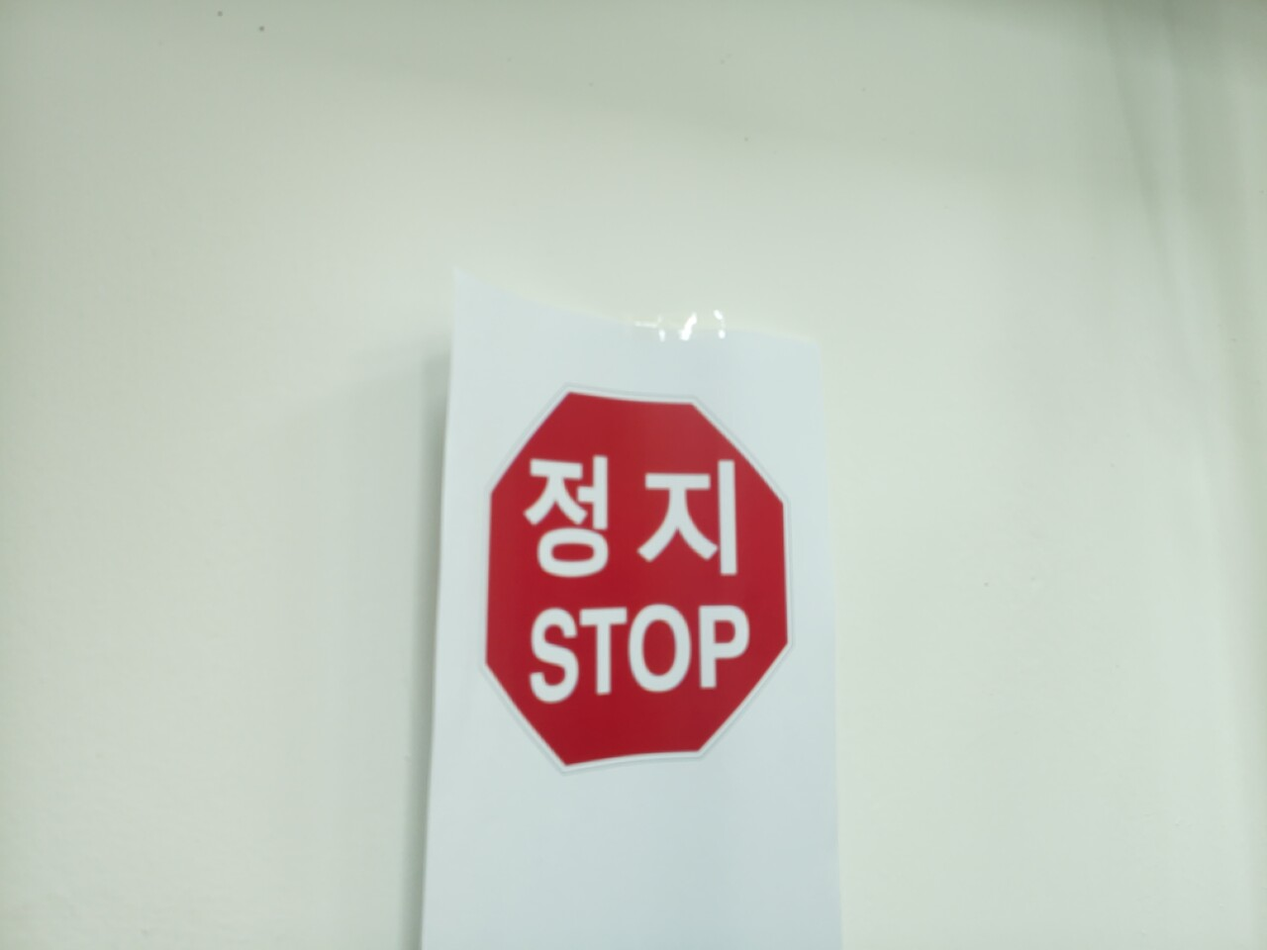stop: (476, 381, 798, 777)
